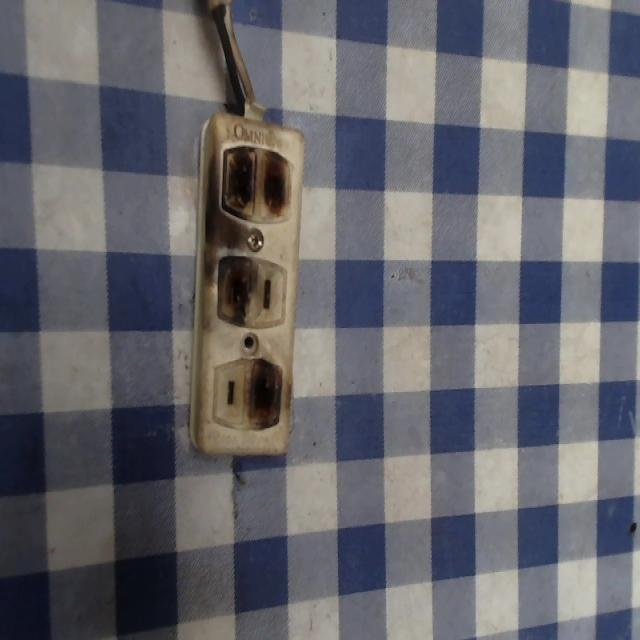-: (214, 140, 295, 227), (214, 252, 256, 327), (243, 354, 285, 429)
